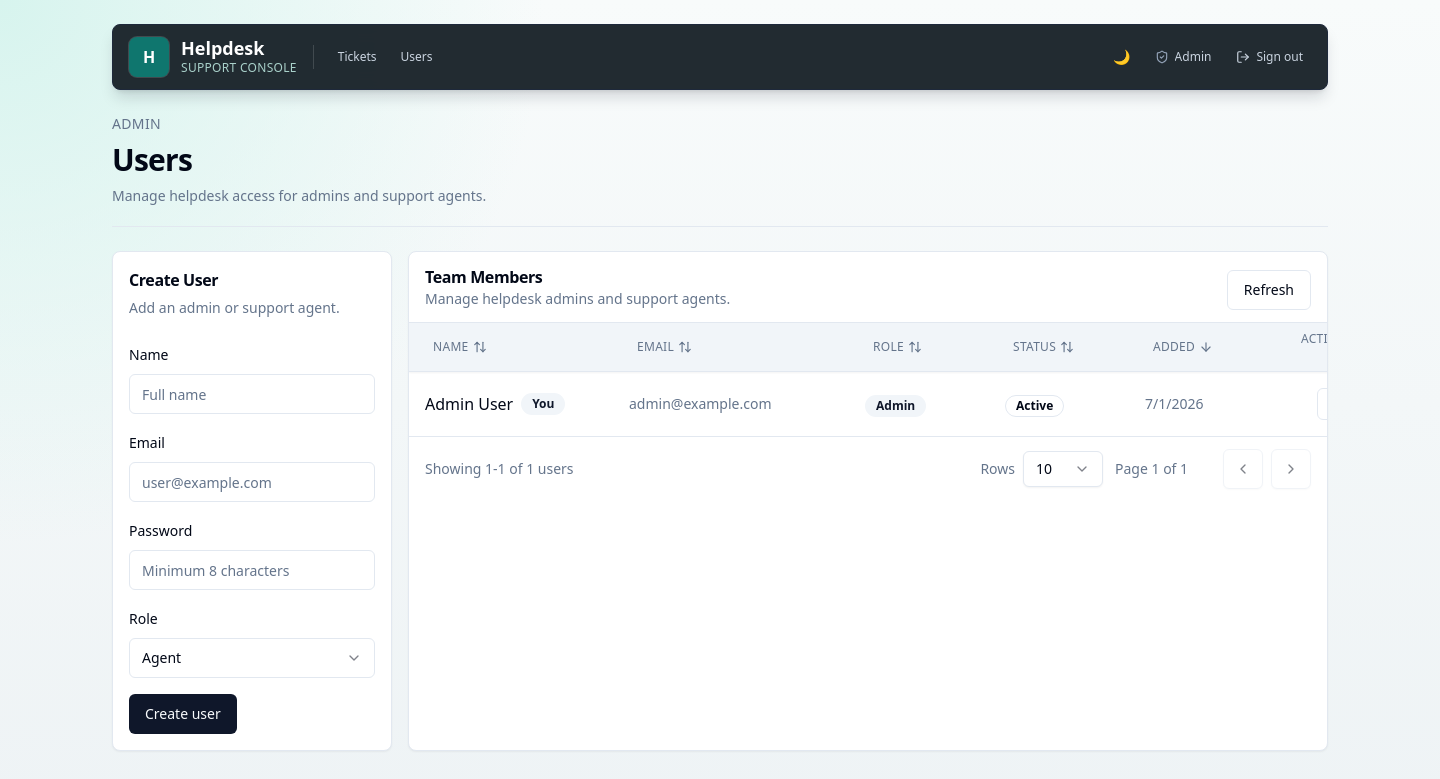
Test: Users page › validates required create-user fields
Check: the text "admin@example.com" is shown, box [629,394,772,413]
What coordinates should you click on to do the following:
click the button "Create user"
I would click on:
 (183, 714)
Its box is [129,694,237,734].
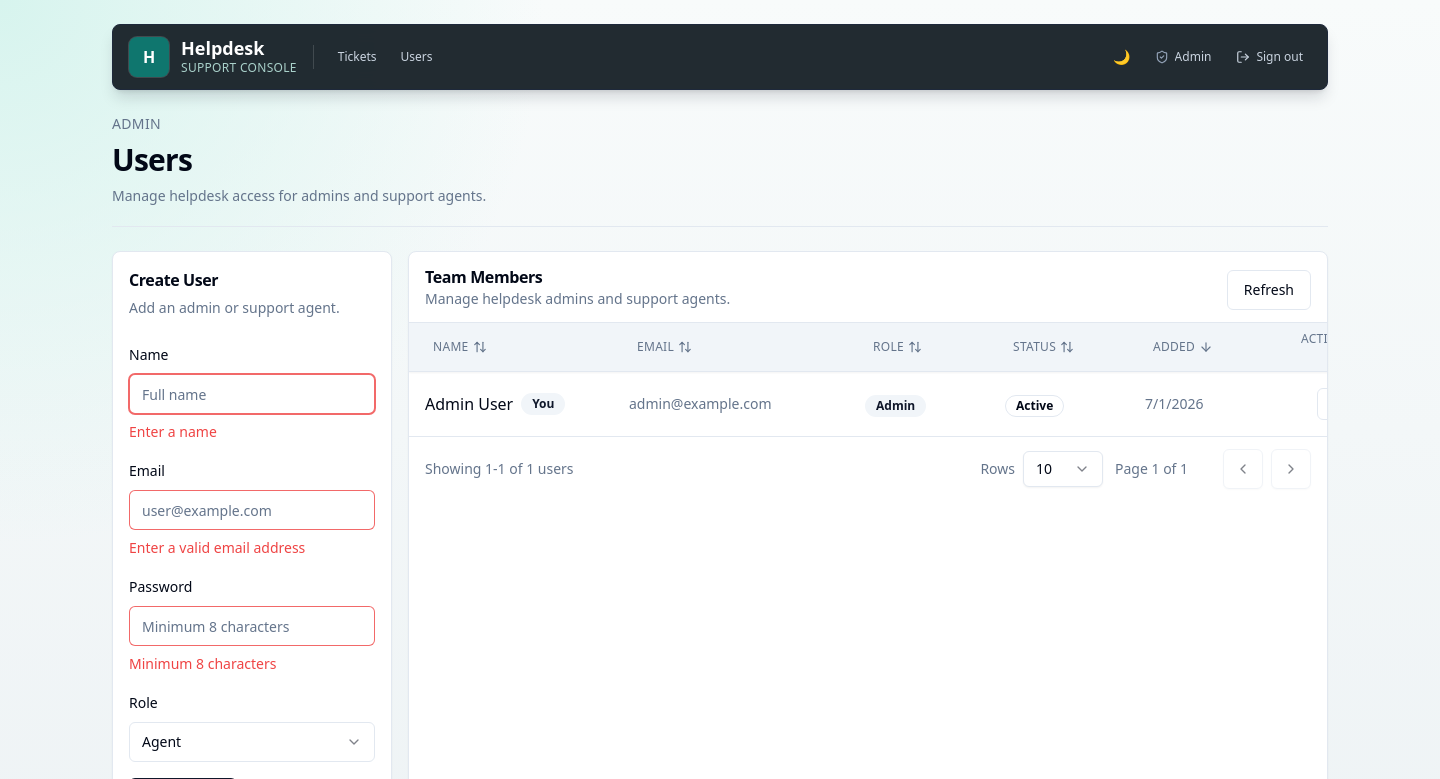
Check: the text "Enter a name" is shown, box [129,422,217,441]
Check: the text "Enter a valid email address" is shown, box [129,538,305,557]
Check: the text "Minimum 8 characters" is shown, box [129,654,276,673]
